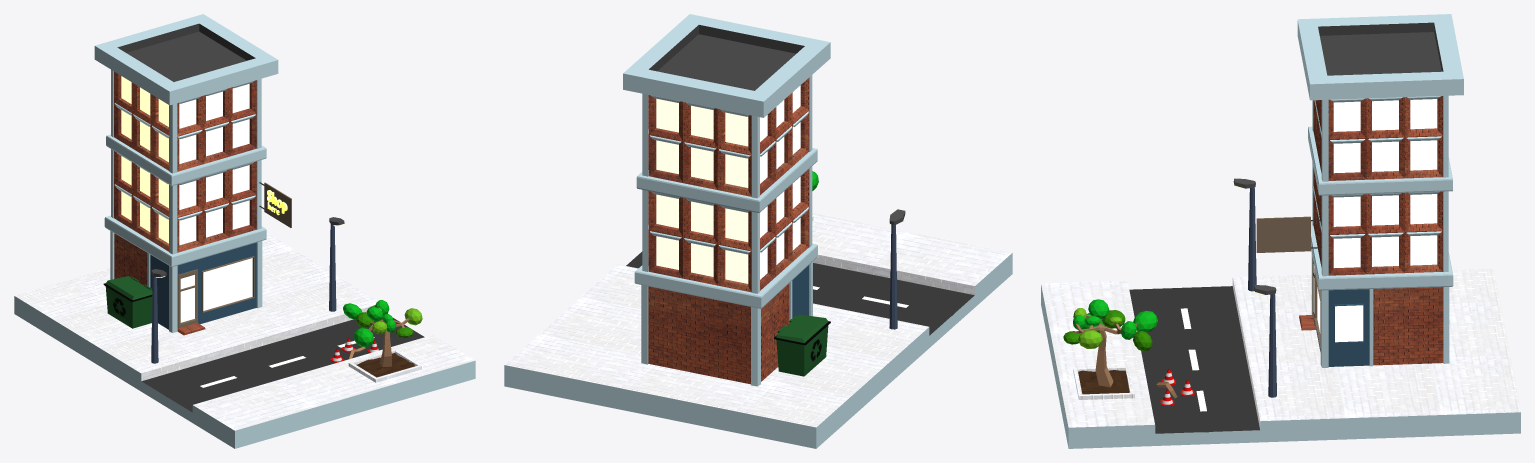
The model's file is low_poly_city_building.glb.
3 views of the same model, side by side, from view 1: azimuth 30°, elevation 25°; view 2: azimuth 150°, elevation 25°; view 3: azimuth 270°, elevation 25° (orthographic). The views are drawn at different scales.
Parts seen in each view (by area): view 1: Cube, Cube.002, Cylinder.002, Cylinder.001, Plane, Cylinder, Cube.001, Cube.004; view 2: Cube, Cube.002, Cylinder.002, Cylinder.001; view 3: Cube.002, Cube, Cube.001, Cylinder, Cylinder.001, Plane, Cube.004.
Boxes of the visible parts, <box> form: Cube: <box>94,14,278,335</box>; Cube.002: <box>14,233,475,448</box>; Cylinder.002: <box>103,276,152,328</box>; Cylinder.001: <box>151,269,166,363</box>; Plane: <box>356,353,415,377</box>; Cylinder: <box>329,217,344,311</box>; Cube.001: <box>264,182,291,227</box>; Cube.004: <box>362,312,408,366</box>; Cube: <box>623,14,830,386</box>; Cube.002: <box>504,212,1012,448</box>; Cylinder.002: <box>774,314,830,376</box>; Cylinder.001: <box>889,209,905,329</box>; Cube.002: <box>1041,268,1520,448</box>; Cube: <box>1297,14,1463,367</box>; Cube.001: <box>1256,216,1310,252</box>; Cylinder: <box>1254,285,1276,397</box>; Cylinder.001: <box>1233,178,1256,291</box>; Plane: <box>1078,370,1129,394</box>; Cube.004: <box>1074,314,1137,387</box>.
Size of the model in its own units: 17.97 by 16.34 by 22.84.
25 materials, 2 textured.
